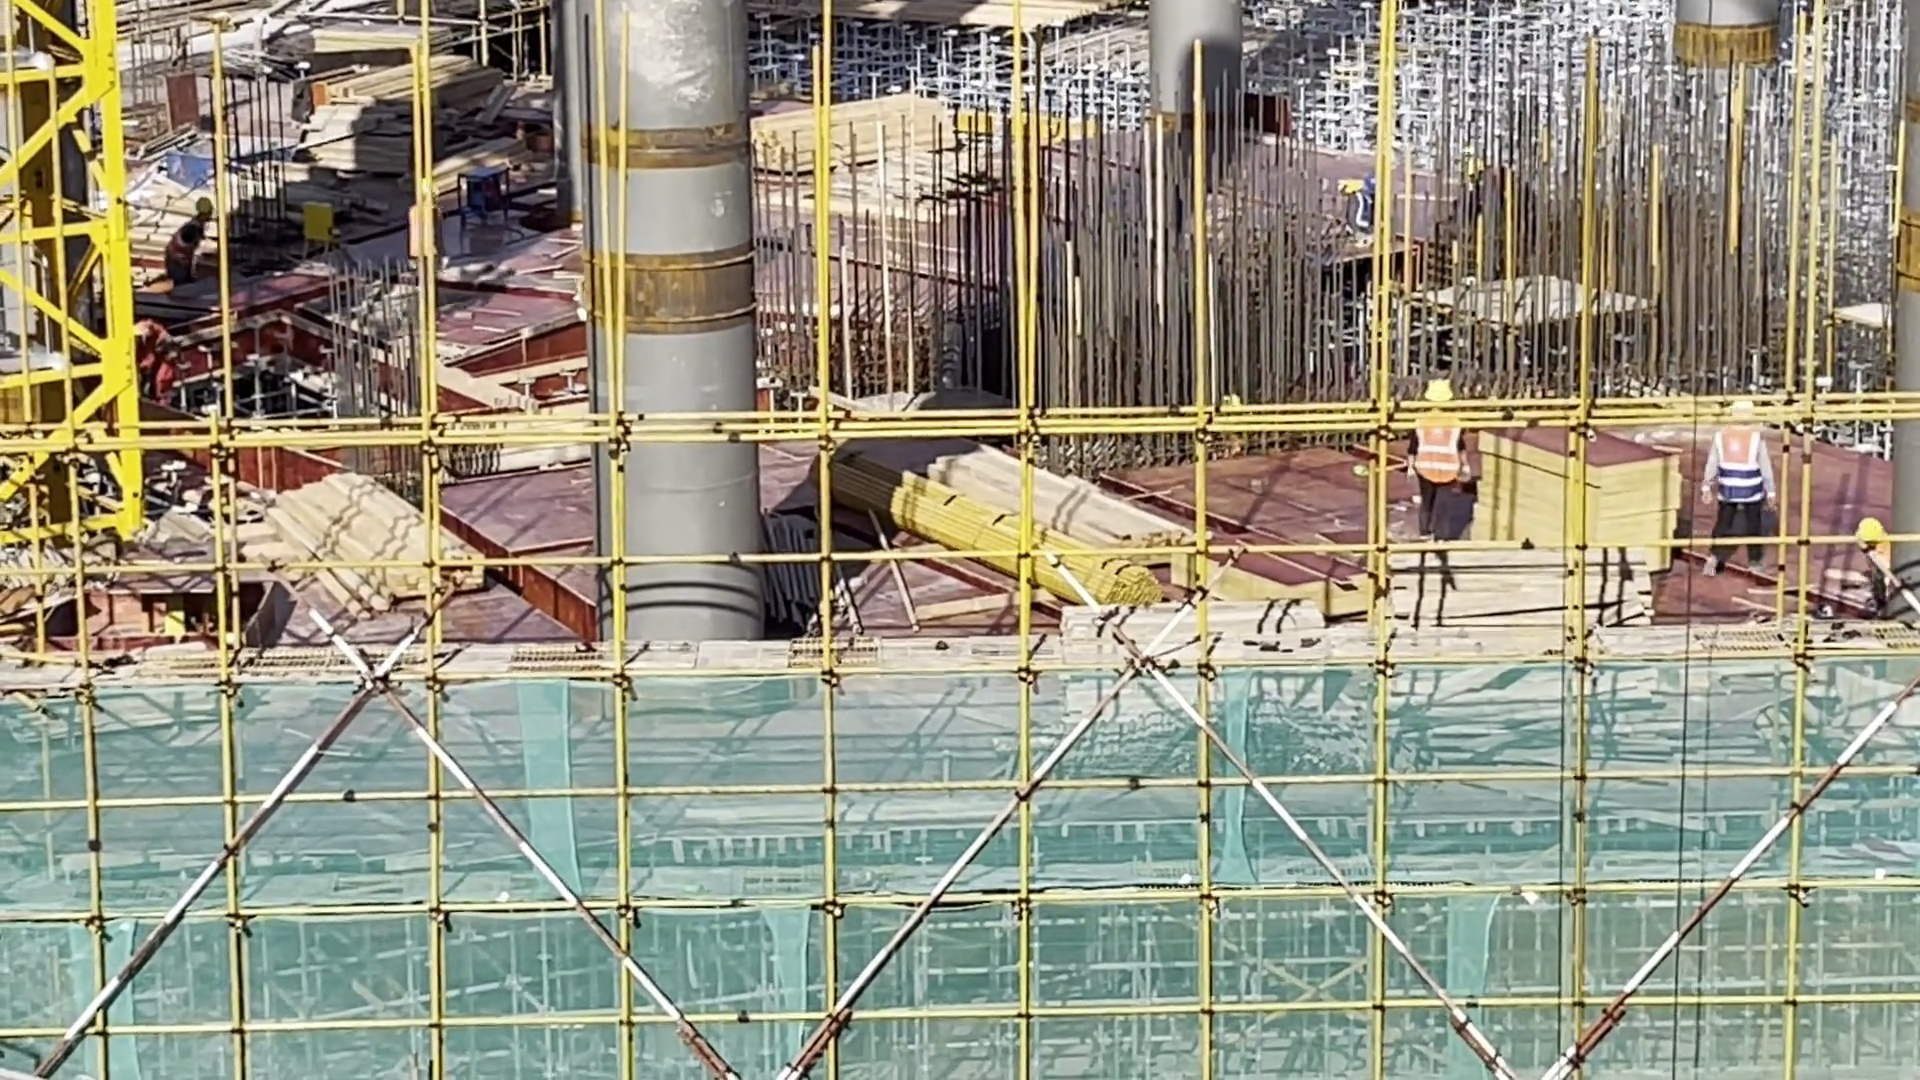board: (1492, 410, 1685, 580), (302, 56, 511, 176)
helmet: (1855, 518, 1885, 544), (1426, 374, 1455, 400)
person: (1705, 401, 1775, 583), (1401, 373, 1475, 537)
vest: (1710, 433, 1769, 501), (1417, 417, 1466, 484)
wood: (897, 443, 1192, 599), (271, 476, 496, 593), (748, 89, 951, 170)
